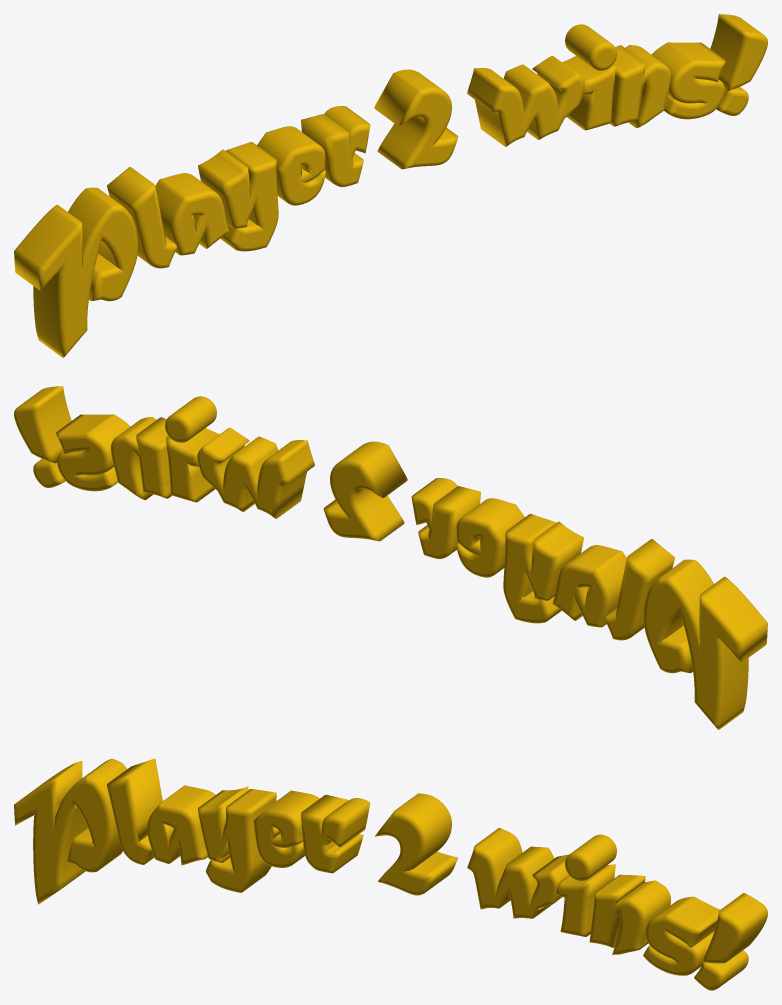
The model's file is winner_p2.fbx.
3 views of the same model, one above another, from view 1: azimuth 30°, elevation 25°; view 2: azimuth 150°, elevation 25°; view 3: azimuth 330°, elevation 25° (orthographic).
Visible parts, largest first — view 1: Text.002; view 2: Text.002; view 3: Text.002.
Part boxes in pixels (x1,y1,x2,y2): Text.002: (14, 14, 767, 357); Text.002: (14, 386, 767, 729); Text.002: (14, 758, 767, 990).
Bounding box in the file's own units: 467 × 112 × 32.
